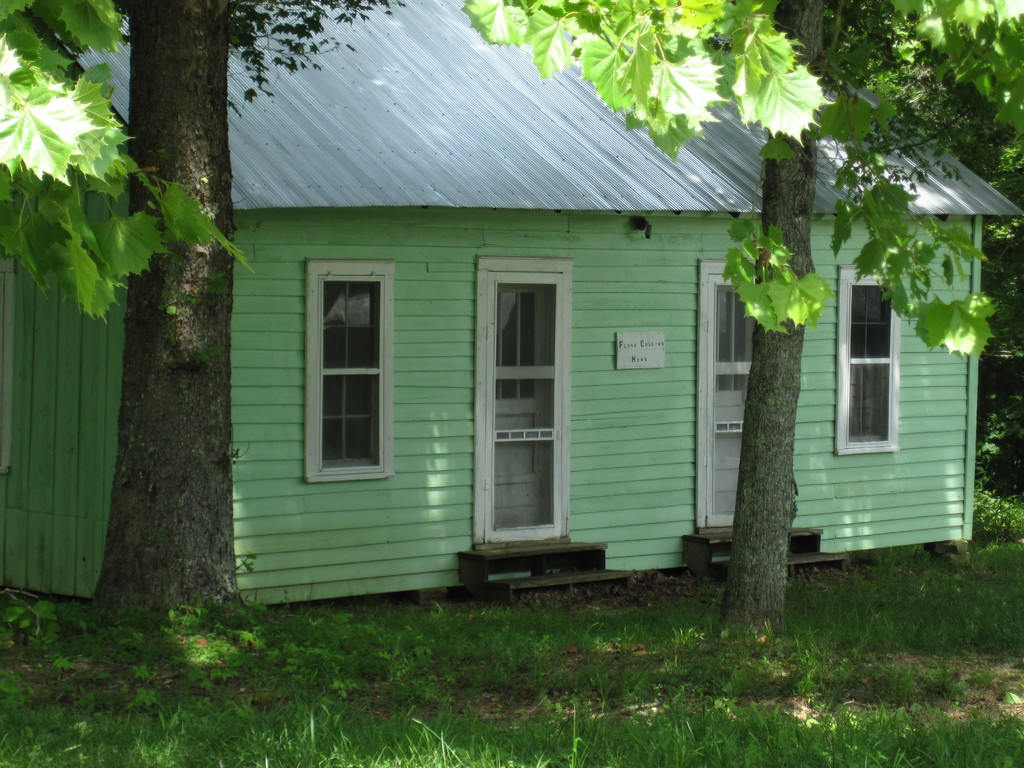Tree: (0, 0, 1023, 625)
